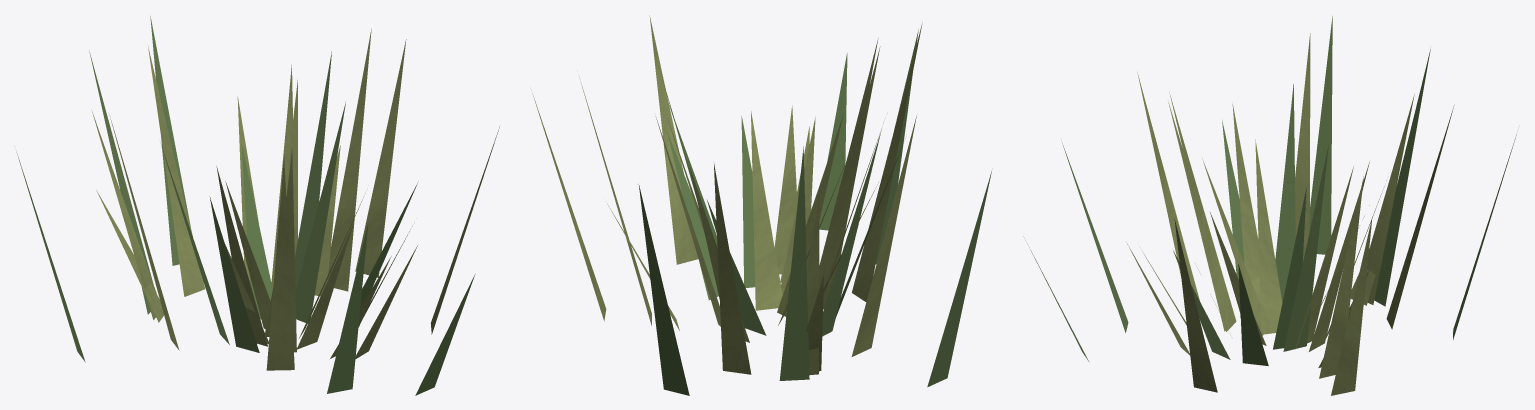
Rendered from grass_clump_03.glb.
3 views of the same model, side by side, from view 1: azimuth 30°, elevation 25°; view 2: azimuth 150°, elevation 25°; view 3: azimuth 270°, elevation 25° (orthographic). The views are drawn at different scales.
Parts seen in each view (by area): view 1: grass_clump_03; view 2: grass_clump_03; view 3: grass_clump_03.
Boxes of the visible parts, <box> form: grass_clump_03: <box>16,16,499,395</box>; grass_clump_03: <box>532,15,991,395</box>; grass_clump_03: <box>1023,16,1516,395</box>.
Size of the model in its own units: 0.7439 by 0.4305 by 0.8137.
Materials: 2 (1 with a texture image).
